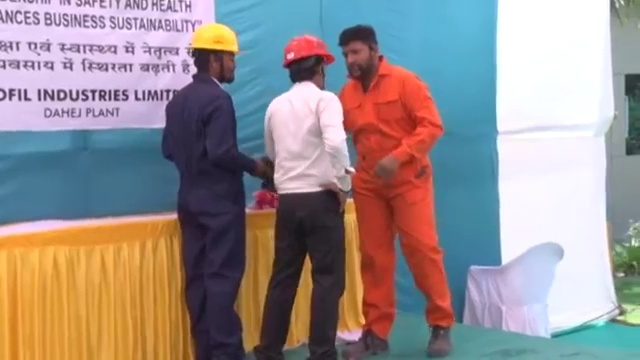helmet: (281, 33, 334, 68), (190, 21, 241, 57)
helmet_off: (337, 24, 383, 82)
helmet_on: (280, 32, 337, 92), (190, 22, 242, 86)
person: (336, 27, 455, 357), (162, 20, 260, 359), (259, 31, 349, 360)
